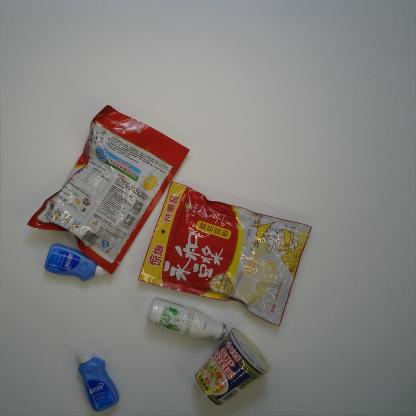Instant Drink: (25, 103, 191, 277), (138, 182, 312, 328)
Instant Noodles: (193, 327, 271, 406)
Milk: (146, 296, 226, 341)
Personal Hygiene: (75, 348, 120, 413), (43, 243, 108, 282)
